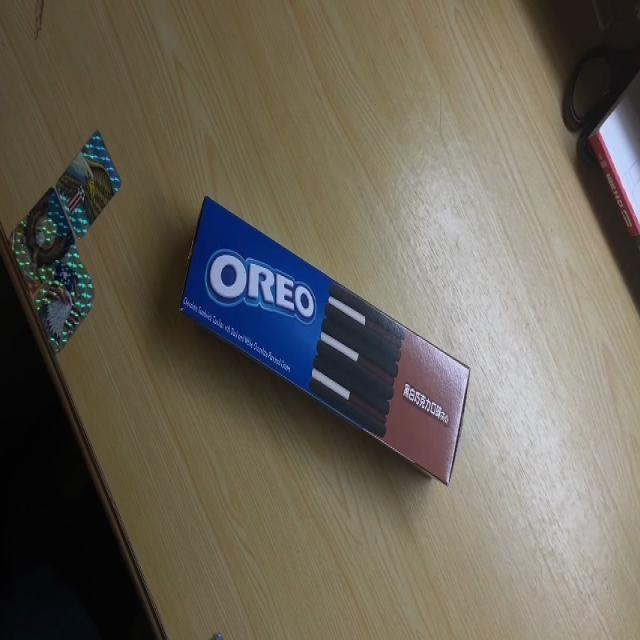Oreo: (177, 194, 471, 487)
